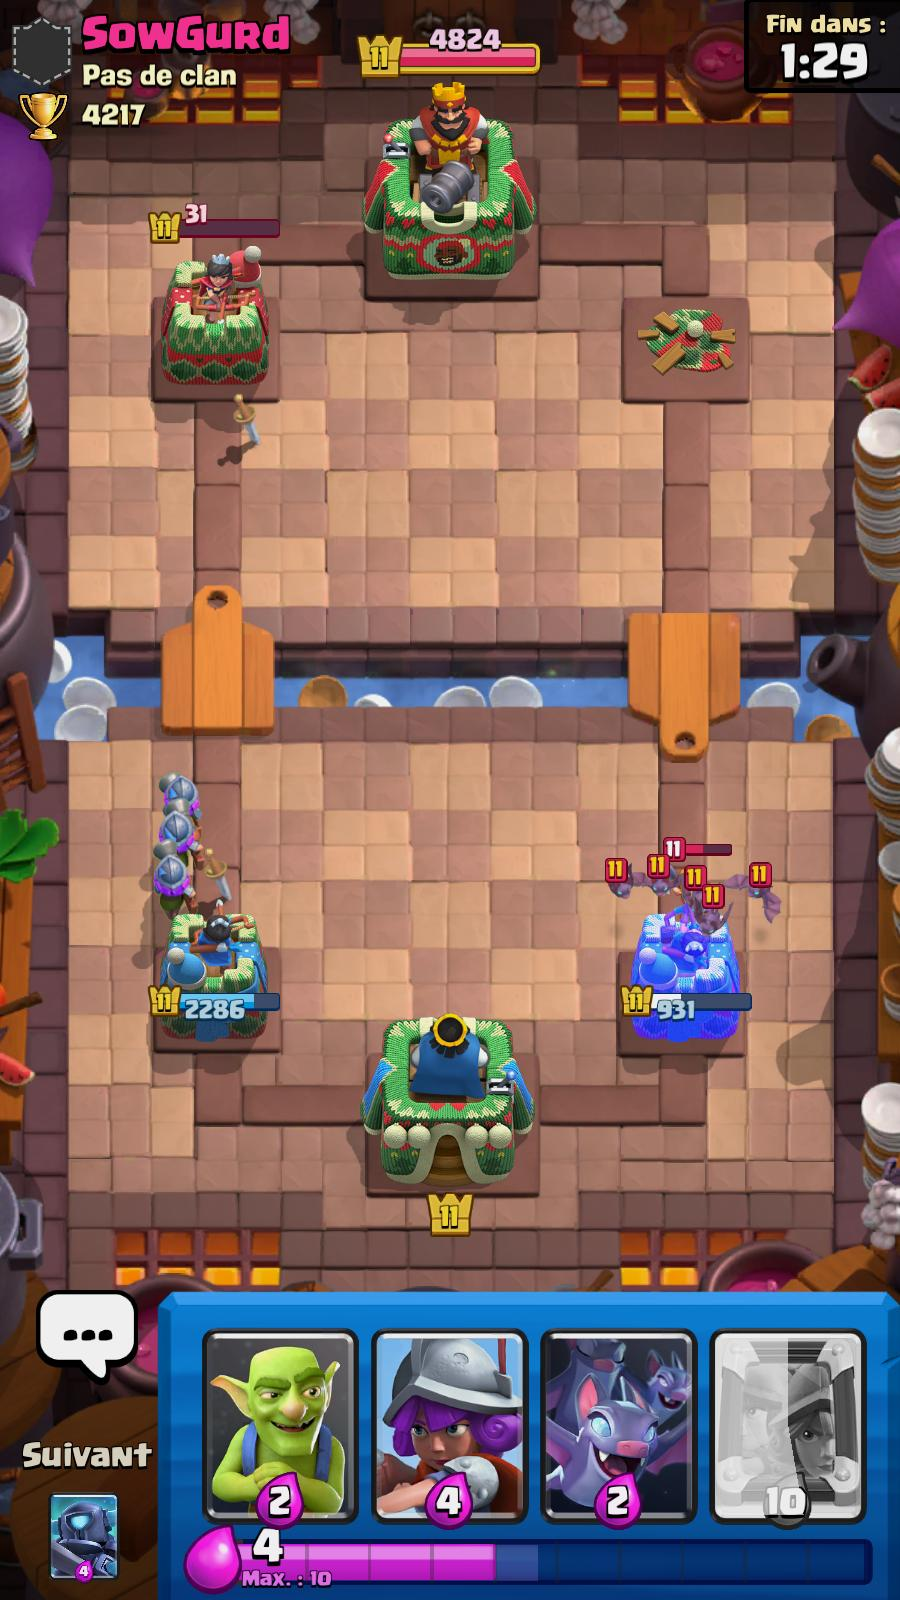bat: (725, 858, 779, 925), (631, 857, 681, 897), (692, 903, 733, 938), (604, 854, 635, 899), (682, 868, 712, 911)
mousquetaire: (155, 842, 198, 925), (157, 771, 210, 827), (154, 809, 203, 857)
valkyrie: (666, 836, 716, 910)
